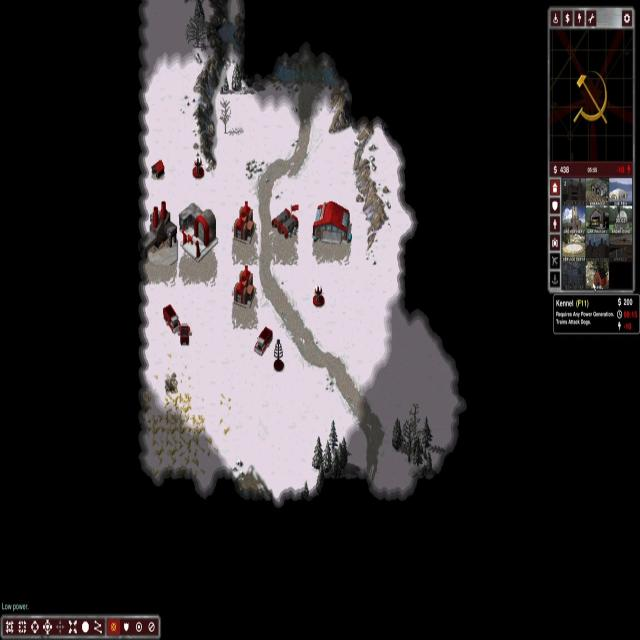dianchang: (234, 265, 256, 308), (234, 200, 254, 243), (272, 208, 298, 239)
jidi: (178, 203, 216, 259)
jungongchang: (312, 200, 352, 244)
kuangchang: (146, 201, 178, 265)
